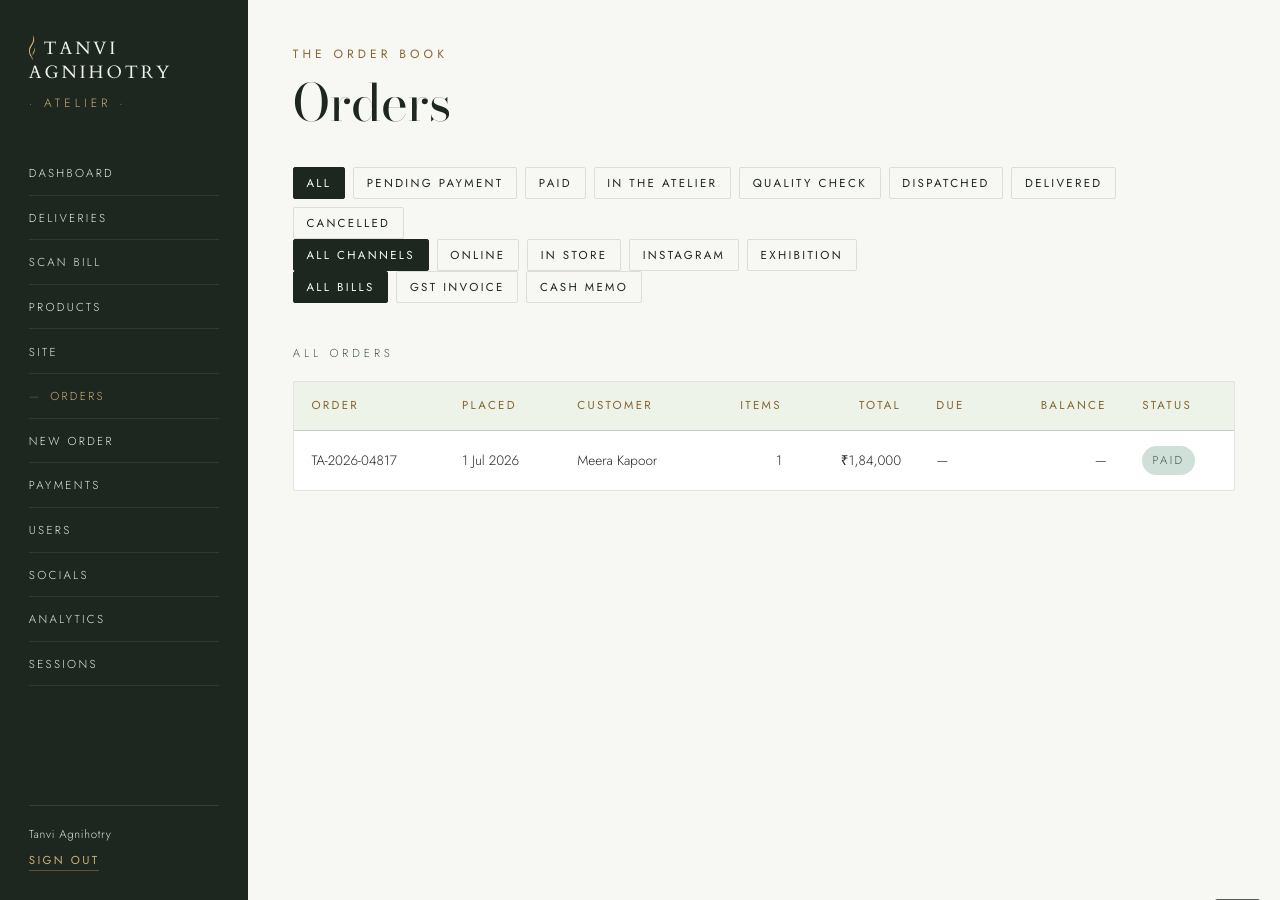
Test: Orders › disables the invoice send for orders without a phone
Click the text "TA-2026-04817" at (369,460), box x1=294 y1=430 x2=444 y2=490
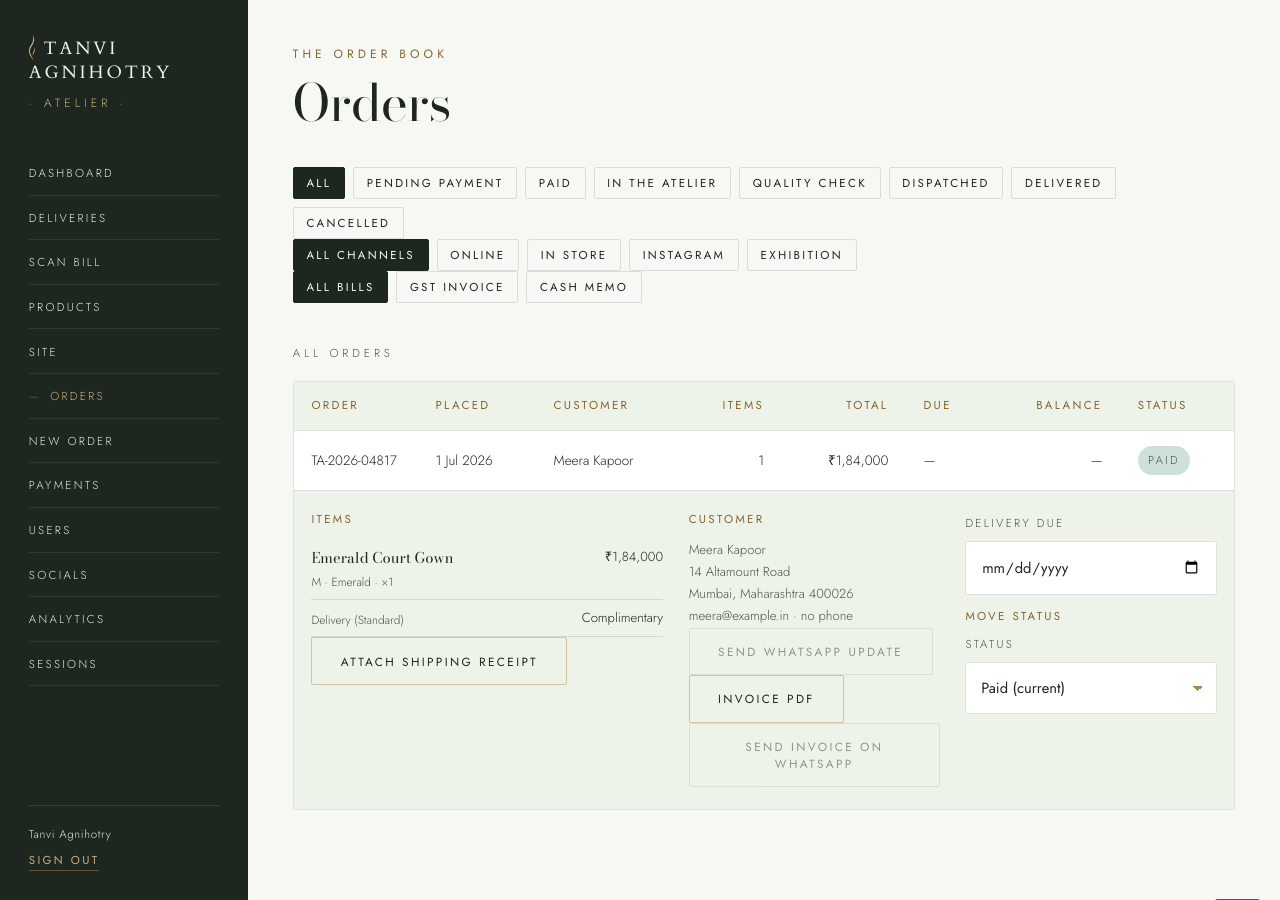
Expected: the button "Send invoice on WhatsApp" is disabled, x1=689 y1=723 x2=940 y2=787
